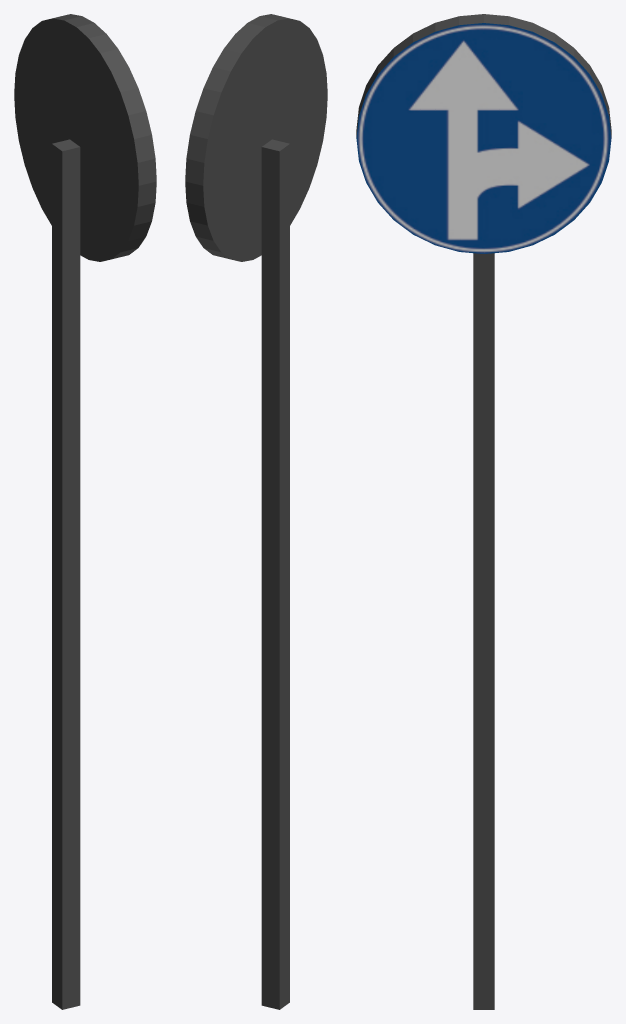
Rendered from ileri_veya_saga_mecburi_levha.dae.
3 renders of one model, left to right at view 1: azimuth 30°, elevation 25°; view 2: azimuth 150°, elevation 25°; view 3: azimuth 270°, elevation 25°, orthographic. The views are drawn at different scales.
Visible parts, largest first — view 1: Cube.004, Cube.001; view 2: Cube.004, Cube.001; view 3: Cube.001, Cube.004.
Boxes of the visible parts, left/top/right/bottom form: Cube.004: left=52, top=139, right=80, bottom=1009; Cube.001: left=14, top=14, right=156, bottom=261; Cube.004: left=261, top=139, right=289, bottom=1009; Cube.001: left=185, top=14, right=327, bottom=261; Cube.001: left=356, top=14, right=611, bottom=253; Cube.004: left=473, top=253, right=494, bottom=1009.
Bounding box in the file's own units: 0.1039 × 0.6 × 2.59.
Materials: 2 (1 with a texture image).
